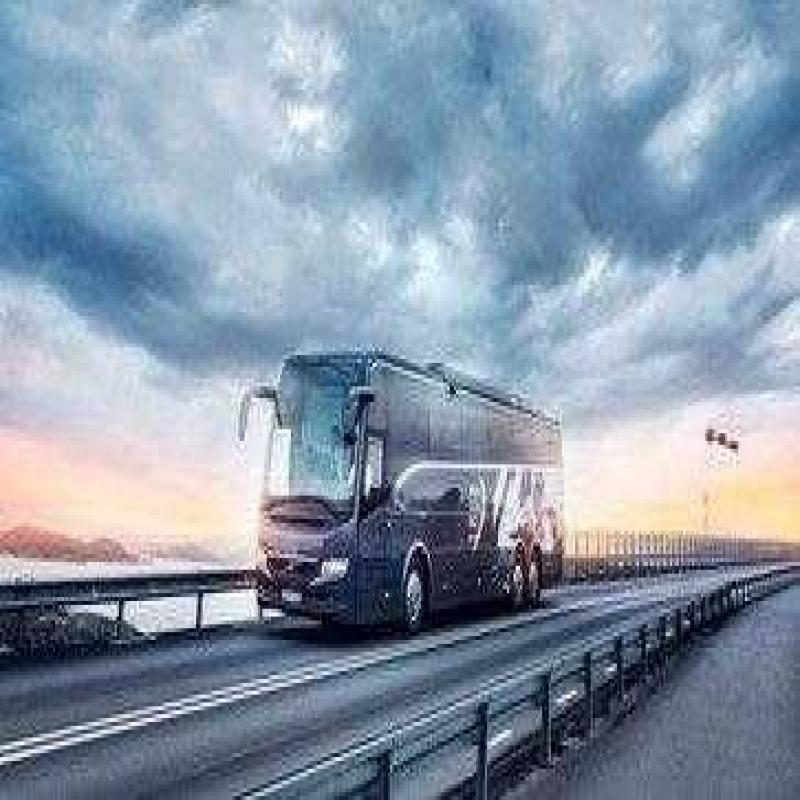bus: (214, 307, 585, 640)
